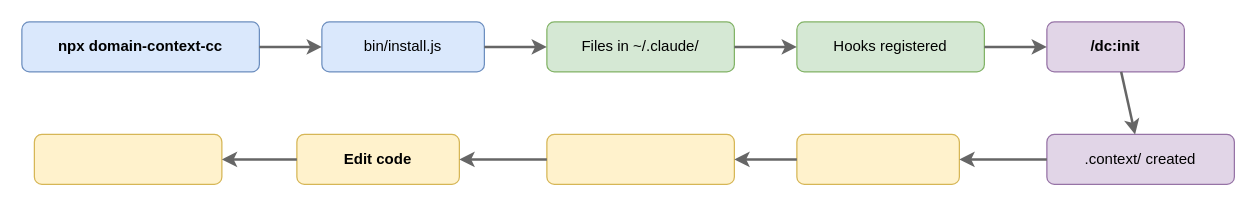
The diagram is 1256 pixels wide and 206 high, and some of its shapes have lost their labels. The centre of each missing label's shape, as x and y in pixels:
"Context reminder" goes at pixel 127 158.
"Freshness check" goes at pixel 640 158.
"Session start" goes at pixel 877 158.
